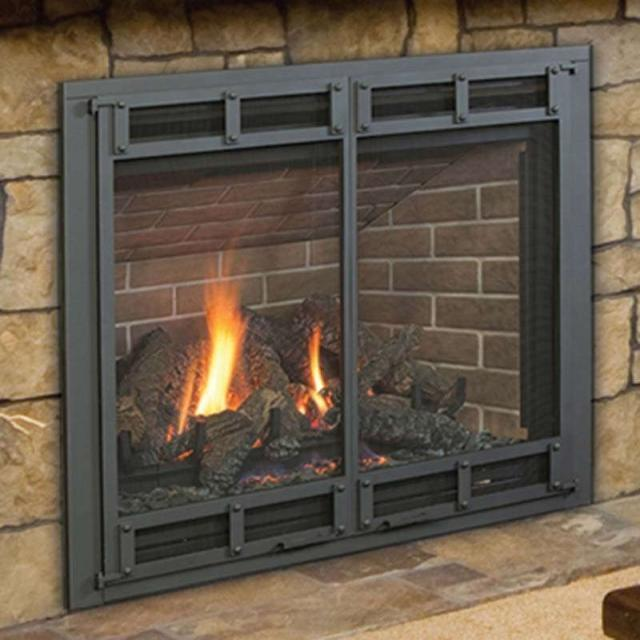Fire: (208, 335, 237, 402)
